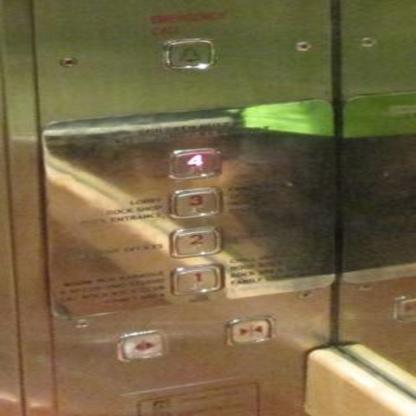1: (169, 263, 224, 294)
2: (168, 226, 222, 258)
3: (168, 186, 223, 218)
4: (167, 146, 223, 178)
alarm: (162, 38, 214, 70)
close: (224, 316, 274, 346)
open: (114, 328, 169, 362)
